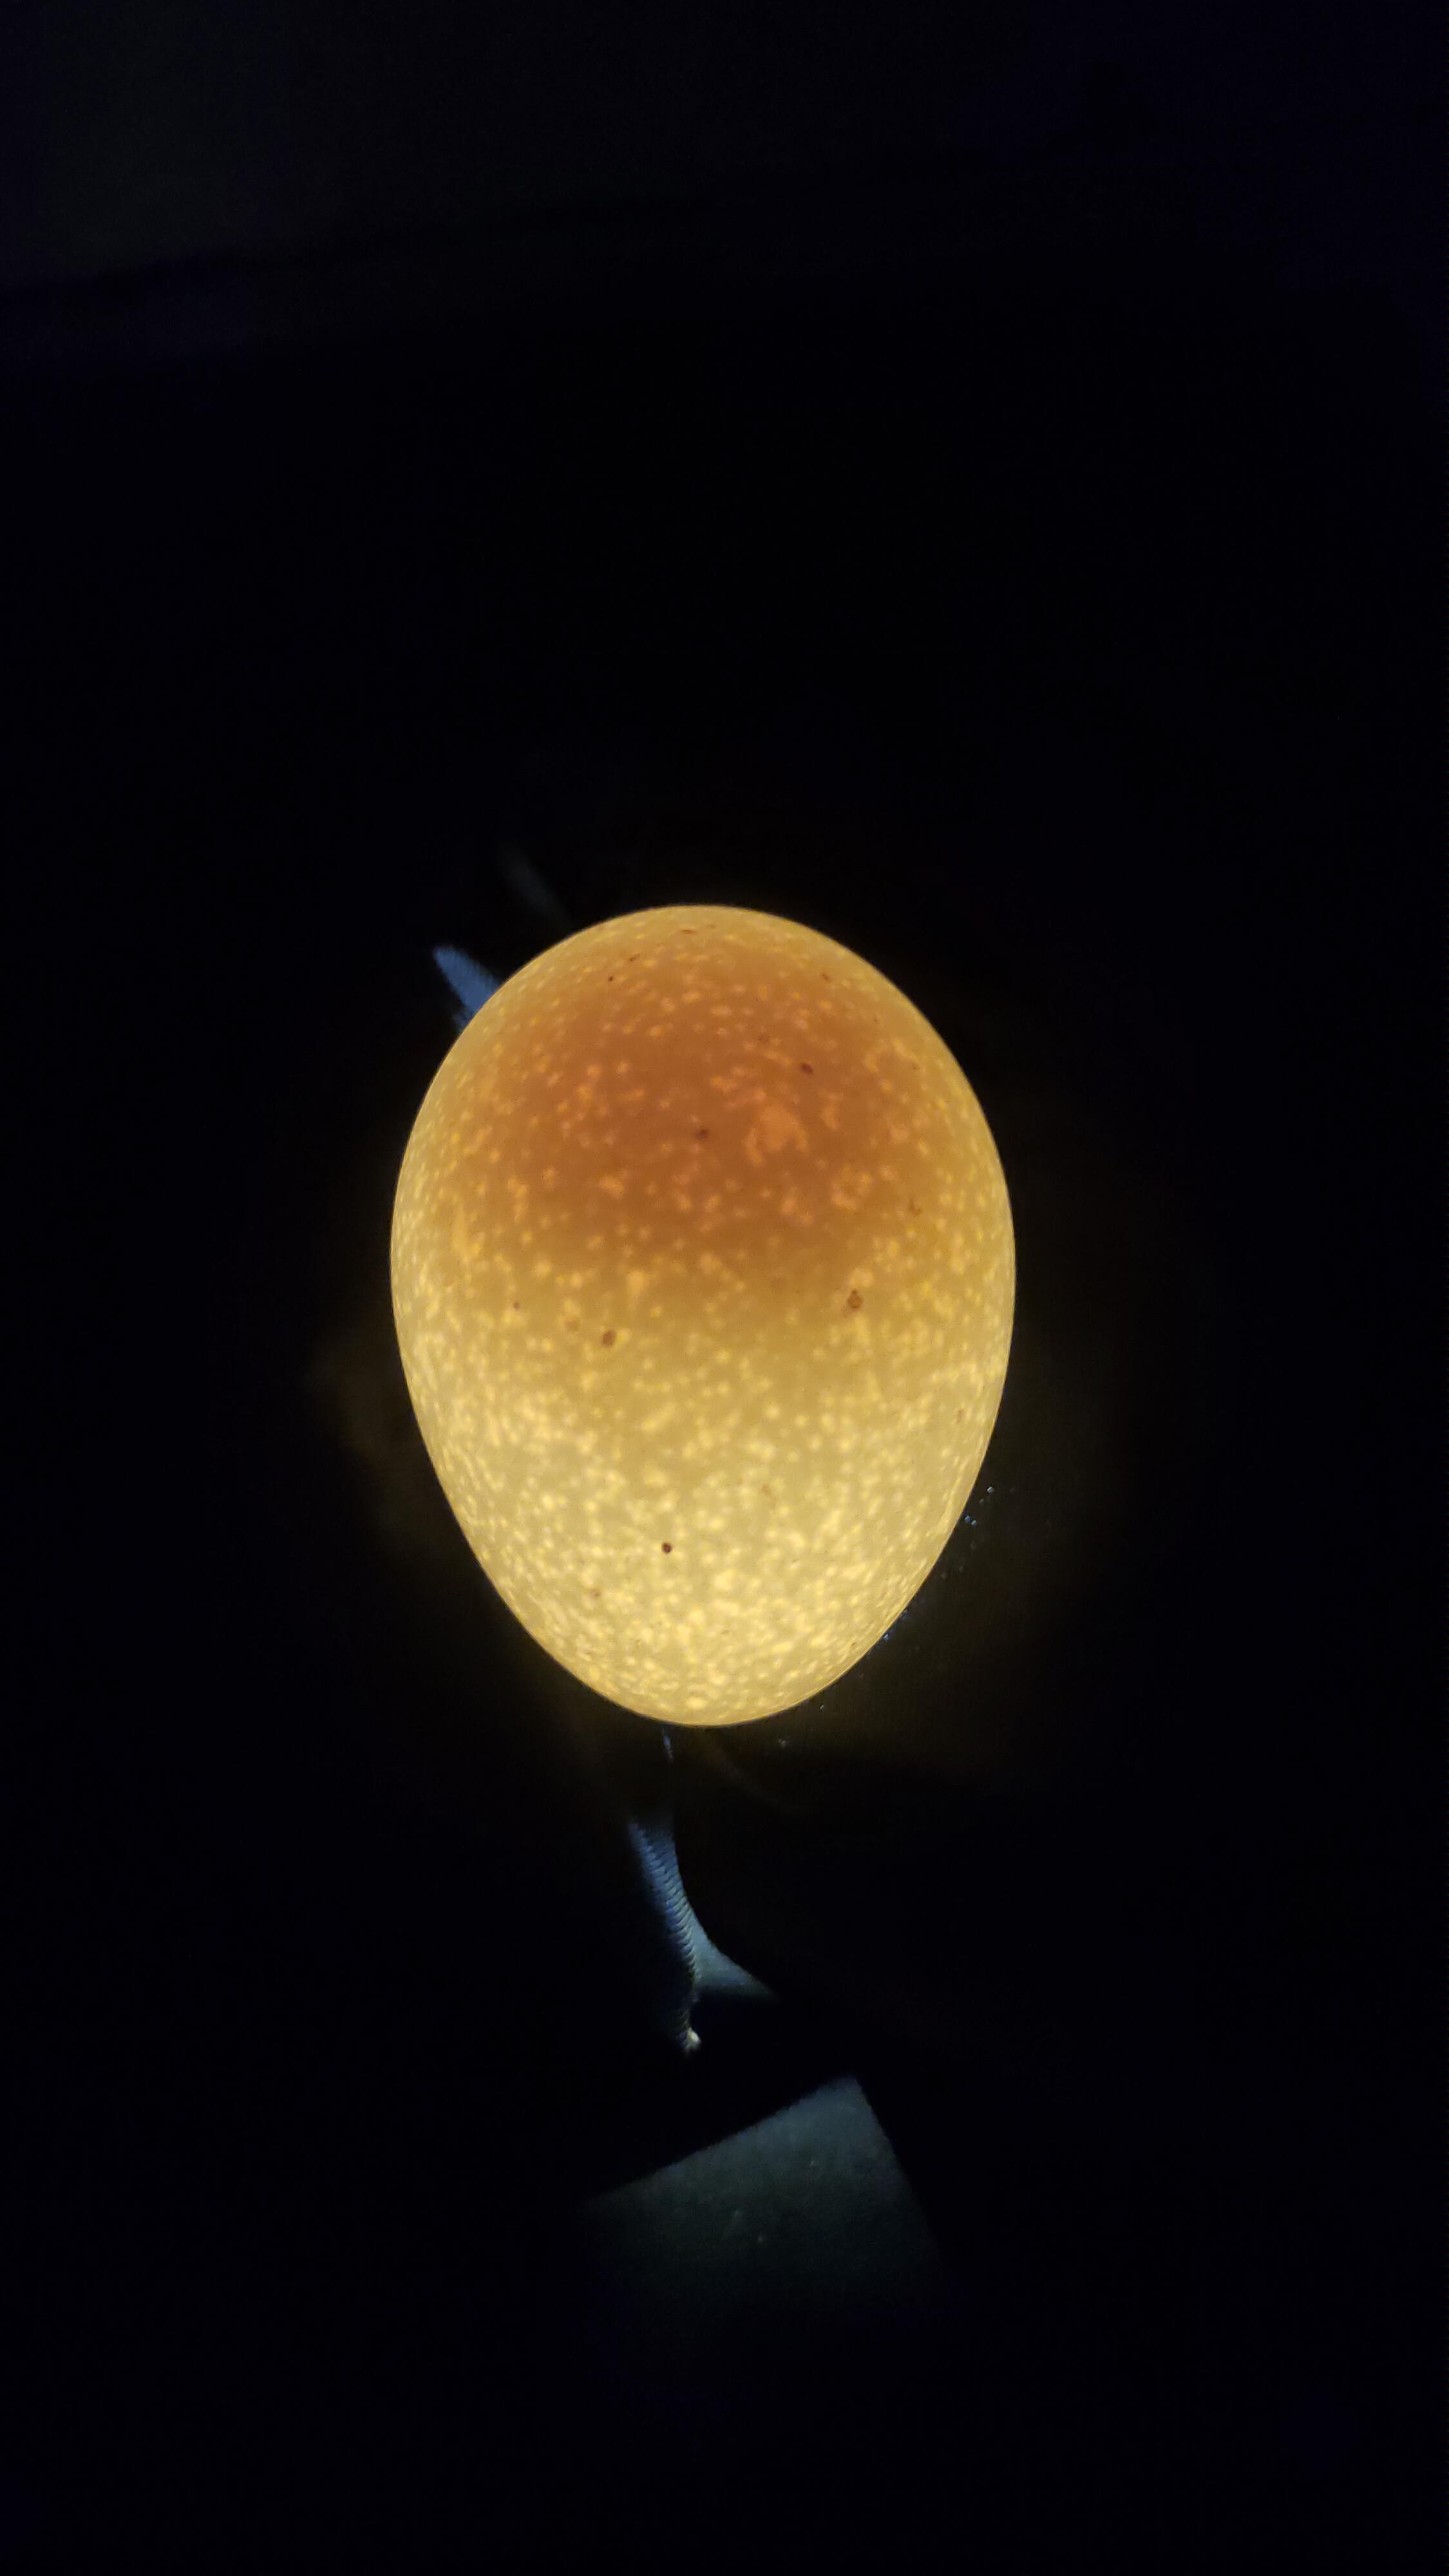Inedible: (361, 876, 1075, 1765)
